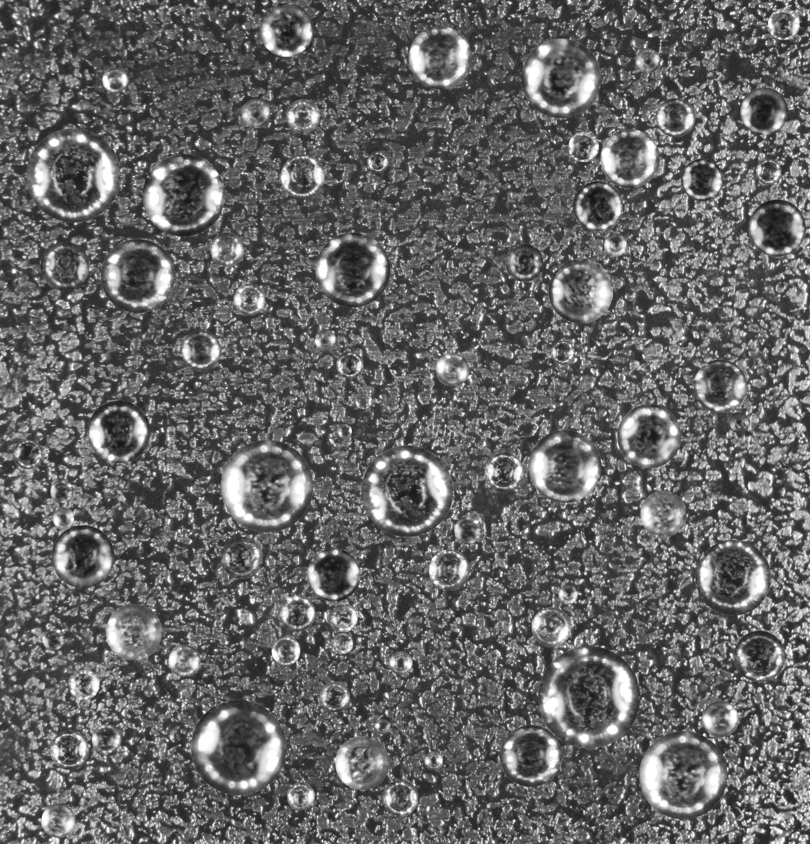Bubble: (538, 646, 640, 748), (191, 700, 286, 795), (26, 128, 120, 222), (220, 440, 313, 532), (361, 445, 452, 536), (639, 731, 727, 819), (142, 154, 224, 236), (521, 38, 601, 118), (695, 539, 771, 615), (315, 232, 390, 307), (100, 239, 174, 312), (528, 430, 601, 502), (548, 259, 613, 323), (617, 404, 681, 468), (51, 525, 114, 588), (408, 26, 471, 89), (87, 400, 150, 463), (500, 725, 561, 786), (600, 129, 659, 188), (748, 199, 805, 256), (105, 604, 161, 660), (335, 736, 389, 790), (259, 2, 313, 56), (693, 359, 747, 412), (307, 548, 360, 601), (734, 630, 785, 682), (573, 181, 622, 231), (40, 241, 89, 290), (740, 87, 788, 135), (640, 491, 686, 537), (280, 154, 324, 198), (220, 536, 263, 579), (681, 158, 723, 201), (428, 549, 469, 590), (484, 452, 524, 492), (531, 607, 571, 646), (181, 330, 220, 370), (656, 98, 695, 137), (49, 731, 88, 769), (505, 243, 543, 281), (702, 700, 738, 737), (279, 595, 315, 631), (382, 780, 418, 816), (435, 352, 469, 386), (210, 232, 244, 266), (41, 803, 75, 837), (286, 99, 320, 133), (168, 644, 200, 676), (233, 283, 265, 315), (768, 8, 800, 40), (68, 668, 99, 700), (568, 131, 599, 162), (319, 682, 349, 712), (91, 724, 121, 753), (13, 439, 42, 469), (271, 636, 300, 665), (241, 99, 270, 128), (328, 603, 357, 632), (286, 782, 314, 810), (336, 351, 363, 378), (454, 516, 481, 543), (755, 158, 781, 184), (102, 67, 127, 92), (635, 48, 660, 73), (551, 340, 574, 364), (389, 651, 412, 675), (604, 233, 627, 256), (50, 480, 73, 503), (42, 628, 64, 650), (52, 507, 74, 528), (367, 151, 388, 172), (728, 412, 749, 433), (314, 329, 335, 350), (332, 633, 353, 654), (424, 751, 443, 770), (558, 585, 577, 604), (355, 392, 371, 409), (375, 719, 390, 734), (336, 424, 351, 439), (649, 370, 658, 380)
